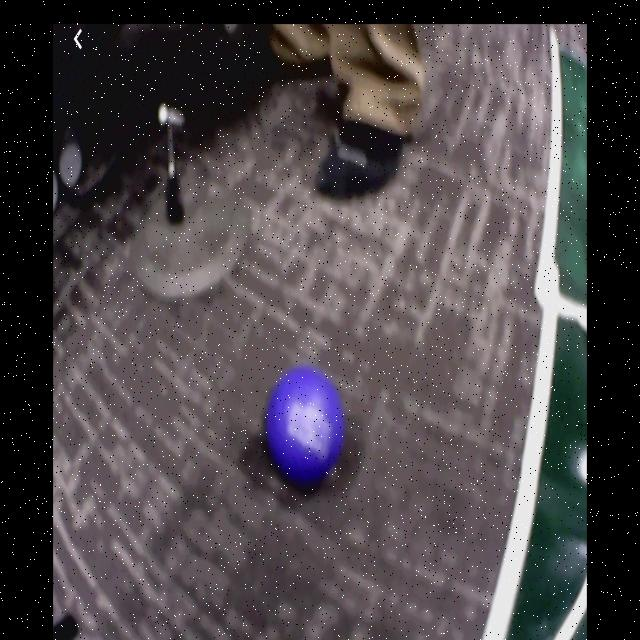ball: (265, 368, 344, 484)
